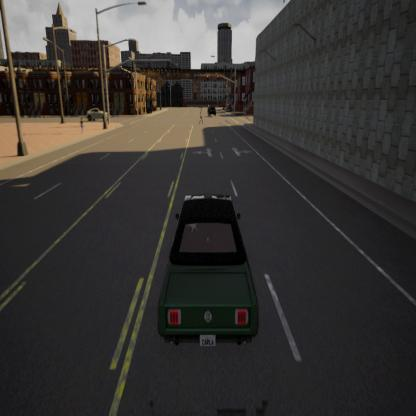Cars: (154, 192, 264, 353), (84, 104, 112, 121), (206, 101, 218, 117)
Pedestrian: (77, 114, 86, 137), (197, 104, 204, 128)
